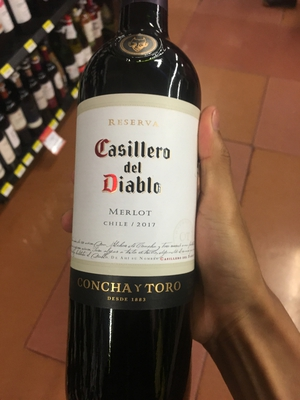casillero del diablo merlot: (67, 19, 203, 400)
